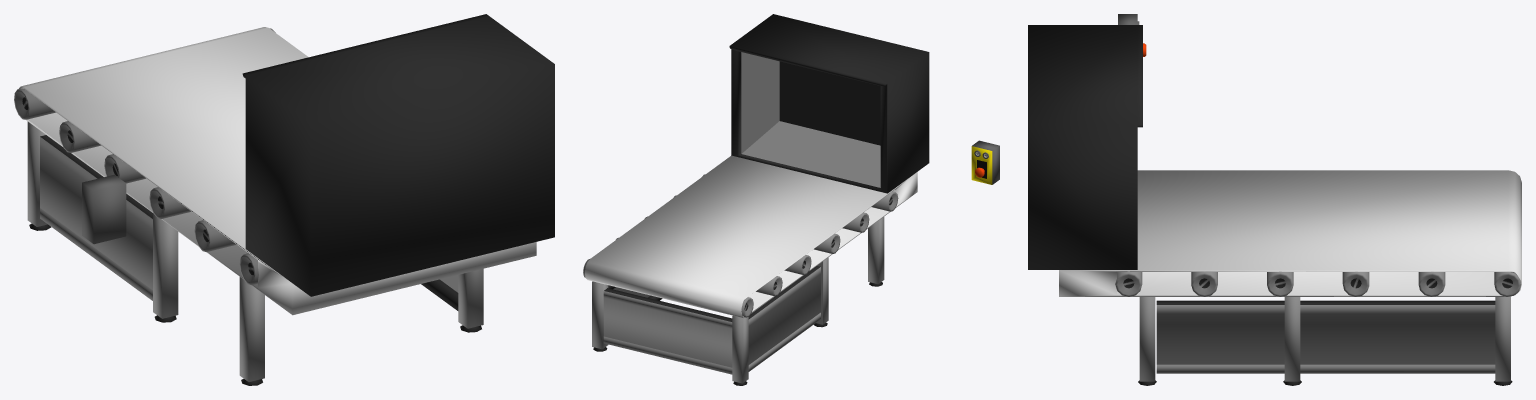
Rendered from scene_tGkbDjZvzu.glb.
3 renders of one model, left to right at view 1: azimuth 30°, elevation 25°; view 2: azimuth 150°, elevation 25°; view 3: azimuth 270°, elevation 25°, orthographic. The views are drawn at different scales.
Visible parts, largest first — view 1: Conveyor.003_Cube.031, Conveyor.002_Cube.001, Conveyor.001_Cube.017, Cube.004_Cube.056, Cube.007_Cube.059, Cube.005_Cube.057, Cube.008_Cube.060, Conveyor.004_Cube.002, Cube.006_Cube.058, Cube.009_Cube.061; view 2: Conveyor.003_Cube.031, Conveyor.005_Cube.003, Conveyor.002_Cube.001, Conveyor.001_Cube.017; view 3: Conveyor.003_Cube.031, Conveyor.004_Cube.002, Cube.005_Cube.057, Cube.006_Cube.058, Cube.008_Cube.060, Cube.007_Cube.059, Cube.009_Cube.061, Cube.004_Cube.056.
Part boxes in pixels (x1,y1,x2,y2): Conveyor.003_Cube.031: (19, 14, 554, 385); Conveyor.002_Cube.001: (40, 135, 152, 300); Conveyor.001_Cube.017: (82, 174, 126, 244); Cube.004_Cube.056: (14, 28, 275, 119); Cube.007_Cube.059: (149, 187, 191, 218); Cube.005_Cube.057: (59, 121, 100, 152); Cube.008_Cube.060: (194, 220, 236, 251); Conveyor.004_Cube.002: (421, 275, 458, 310); Cube.006_Cube.058: (104, 154, 145, 183); Cube.009_Cube.061: (239, 253, 258, 285); Conveyor.003_Cube.031: (585, 14, 929, 385); Conveyor.005_Cube.003: (603, 288, 732, 374); Conveyor.002_Cube.001: (748, 266, 820, 371); Conveyor.001_Cube.017: (971, 140, 999, 184); Conveyor.003_Cube.031: (1028, 25, 1521, 385); Conveyor.004_Cube.002: (1156, 300, 1495, 373); Cube.005_Cube.057: (1418, 271, 1445, 296); Cube.006_Cube.058: (1342, 271, 1369, 296); Cube.008_Cube.060: (1191, 271, 1217, 296); Cube.007_Cube.059: (1267, 271, 1293, 296); Cube.009_Cube.061: (1115, 271, 1142, 296); Cube.004_Cube.056: (1494, 271, 1520, 296).
Bounding box in the file's own units: 5.05 × 3.67 × 6.27.
Materials: 3 (2 with a texture image).
